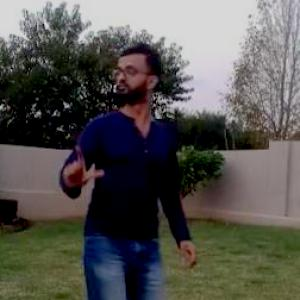land_hand: (57, 138, 111, 192)
